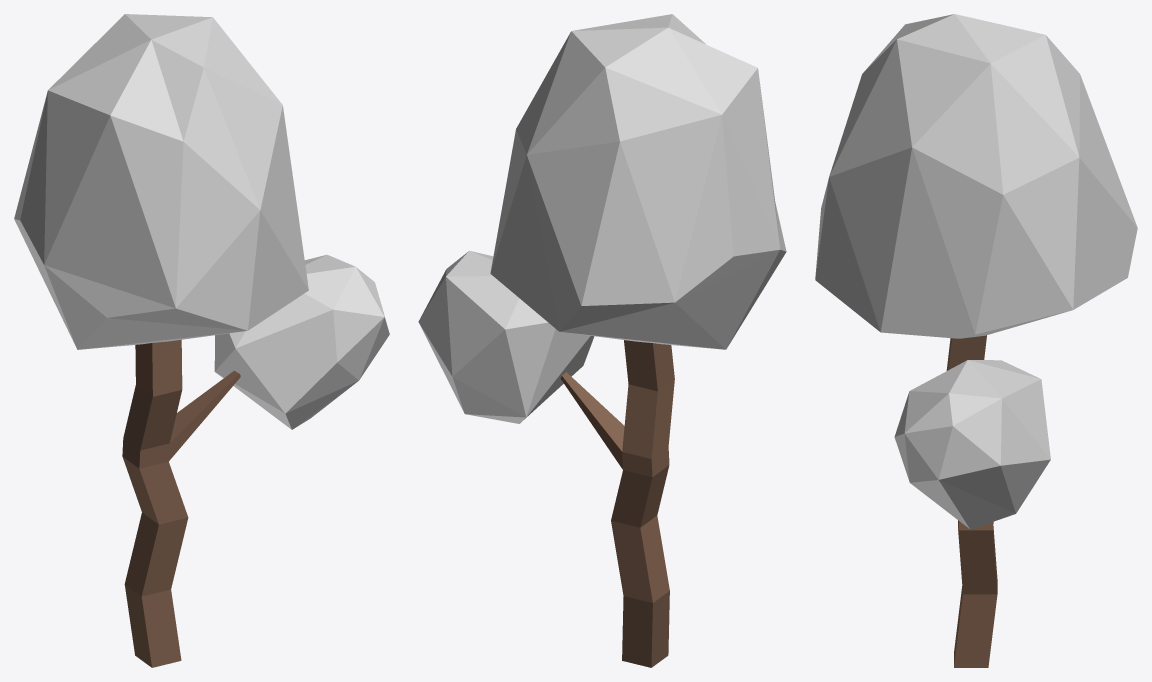
File: Tree_41_White.fbx
3 views of the same model, side by side, from view 1: azimuth 30°, elevation 25°; view 2: azimuth 150°, elevation 25°; view 3: azimuth 270°, elevation 25° (orthographic).
Parts seen in each view (by area): view 1: Tree_41_White_Part_1, Tree_41_White_Part_2; view 2: Tree_41_White_Part_1, Tree_41_White_Part_2; view 3: Tree_41_White_Part_1, Tree_41_White_Part_2.
Part boxes in pixels (<box>): Tree_41_White_Part_1: <box>14,14,389,429</box>; Tree_41_White_Part_2: <box>122,339,240,667</box>; Tree_41_White_Part_1: <box>418,14,786,423</box>; Tree_41_White_Part_2: <box>560,340,674,667</box>; Tree_41_White_Part_1: <box>815,14,1137,529</box>; Tree_41_White_Part_2: <box>946,335,997,667</box>.
Bounding box in the file's own units: 450 × 794 × 363.
